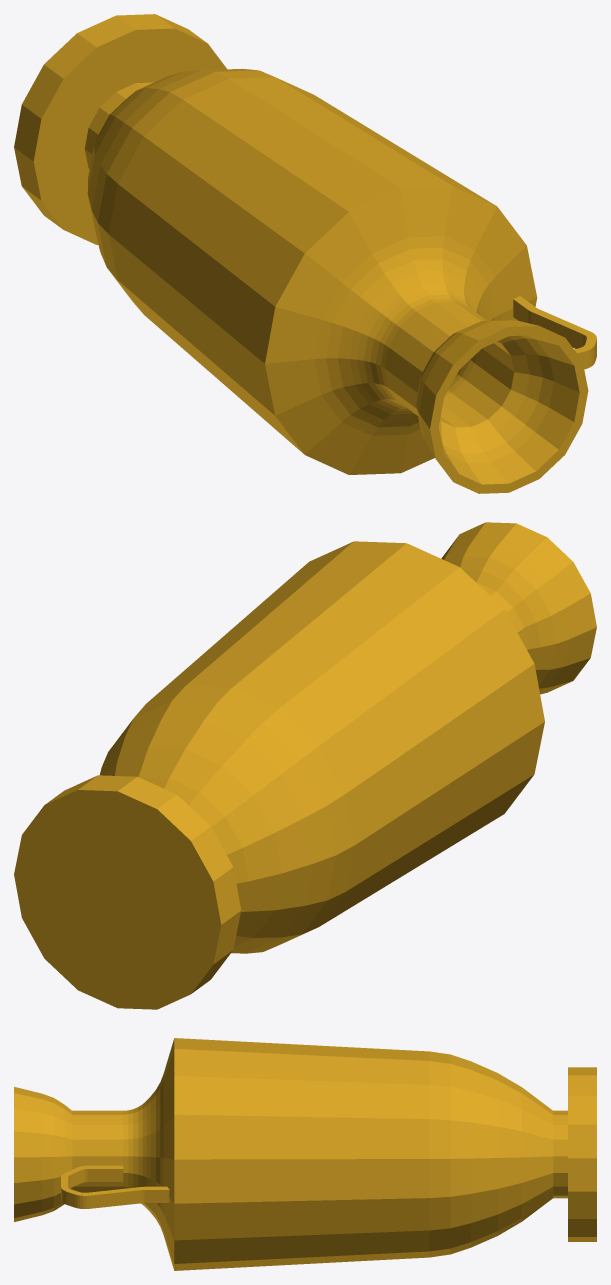
The picture shows the model from 3 angles, top to bottom: view 1: azimuth 30°, elevation 25°; view 2: azimuth 150°, elevation 25°; view 3: azimuth 270°, elevation 25°; orthographic projection. The views are drawn at different scales.
Visible parts, largest first — view 1: vase; view 2: vase; view 3: vase.
Boxes of the visible parts, x1,y1,x2,y2 form: vase: (14, 14, 596, 493); vase: (14, 522, 596, 1009); vase: (14, 1038, 596, 1270).
Size of the model in its own units: 6.3 by 6.3 by 15.75.
